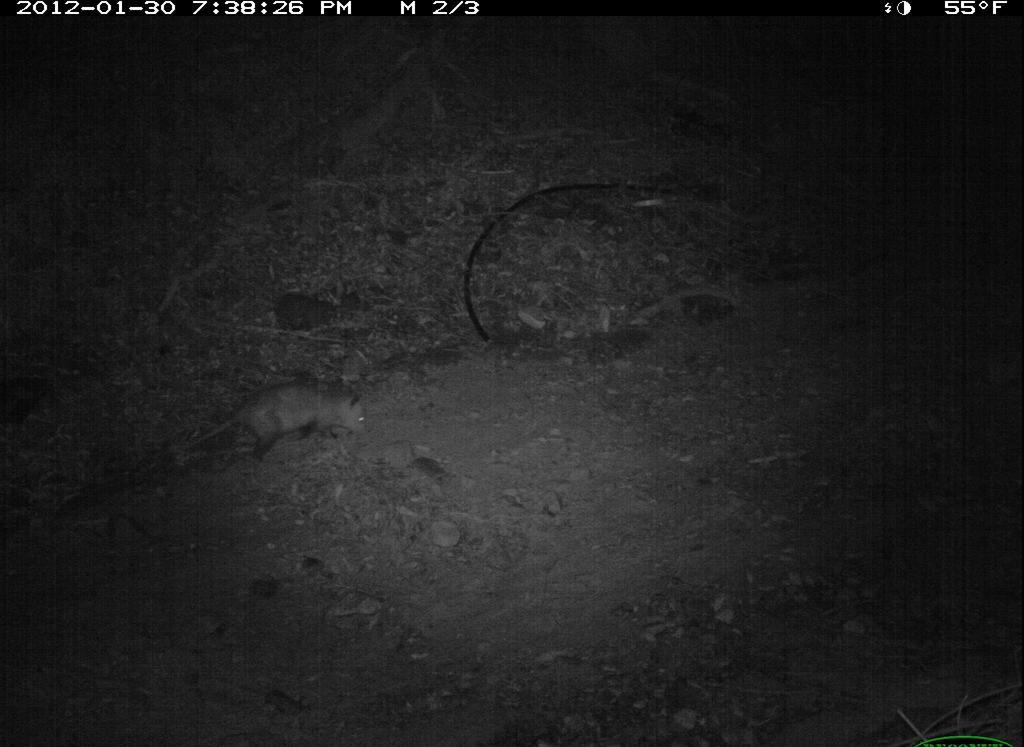opossum: (173, 378, 373, 469)
